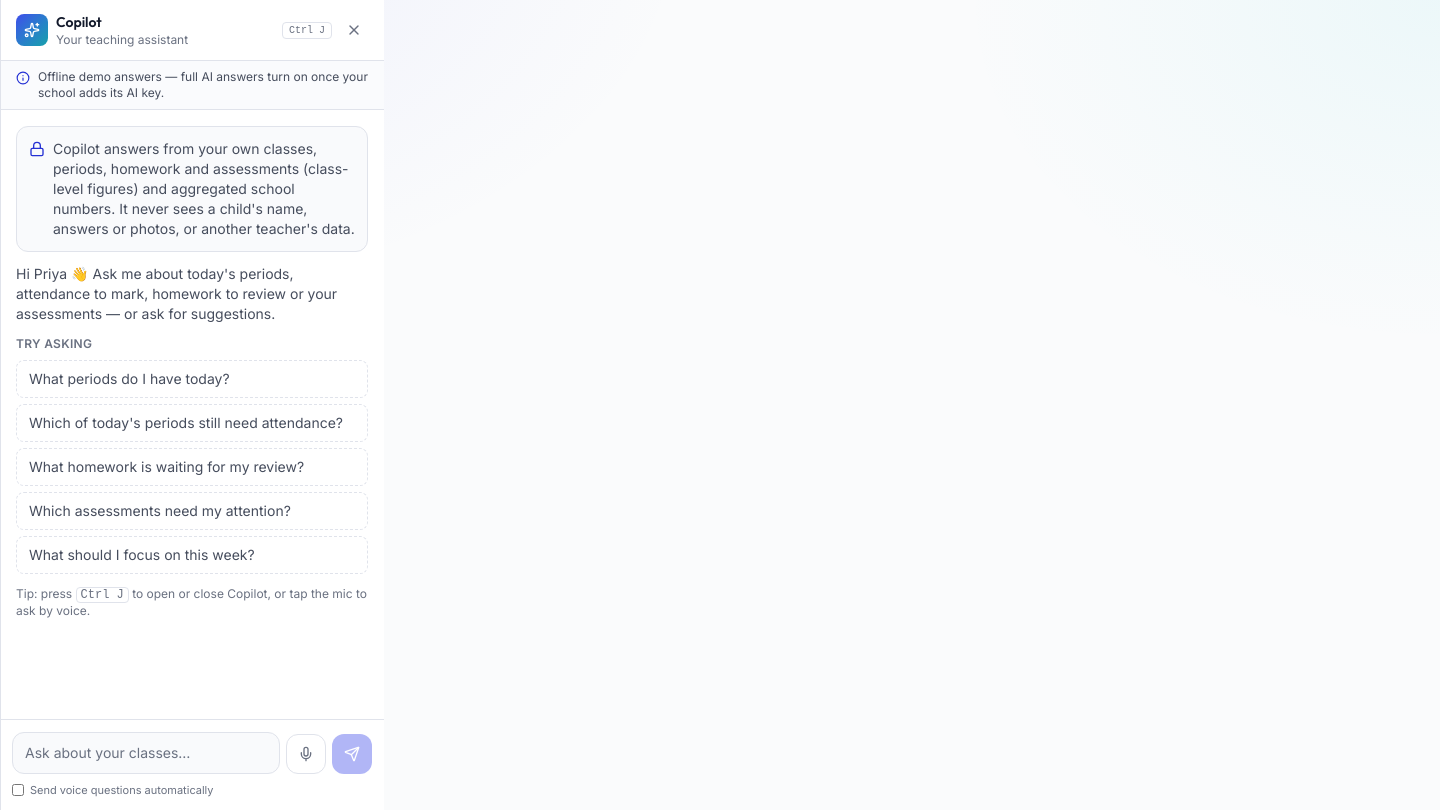
Test: Copilot voice input: browser speech recognition › explains a blocked microphone
The image size is (1440, 810).
Click the button named "Ask by voice". click: click(306, 754)
box: [286,734,326,774]
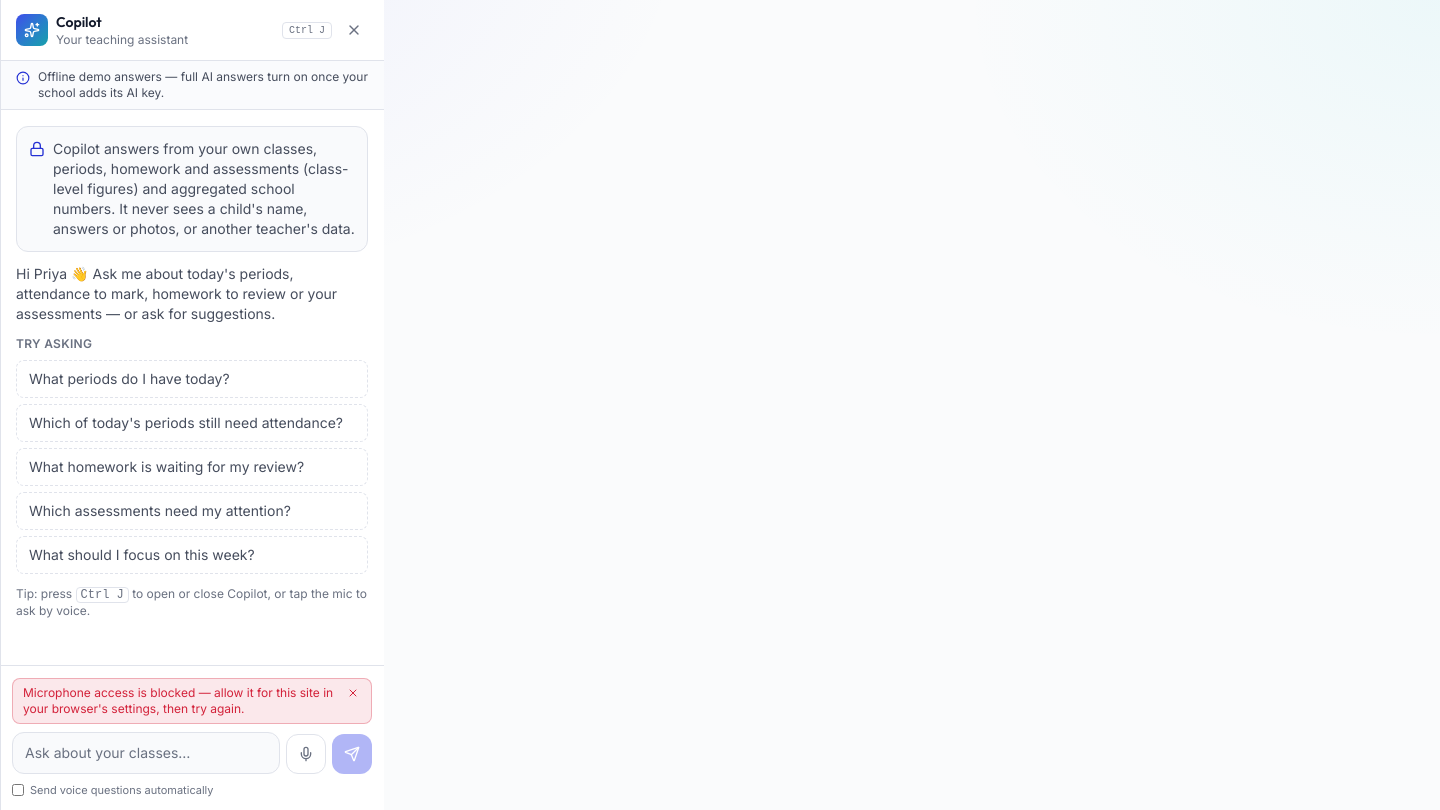
Now the message shows "Microphone access is blocked", box [23,684,333,716]
